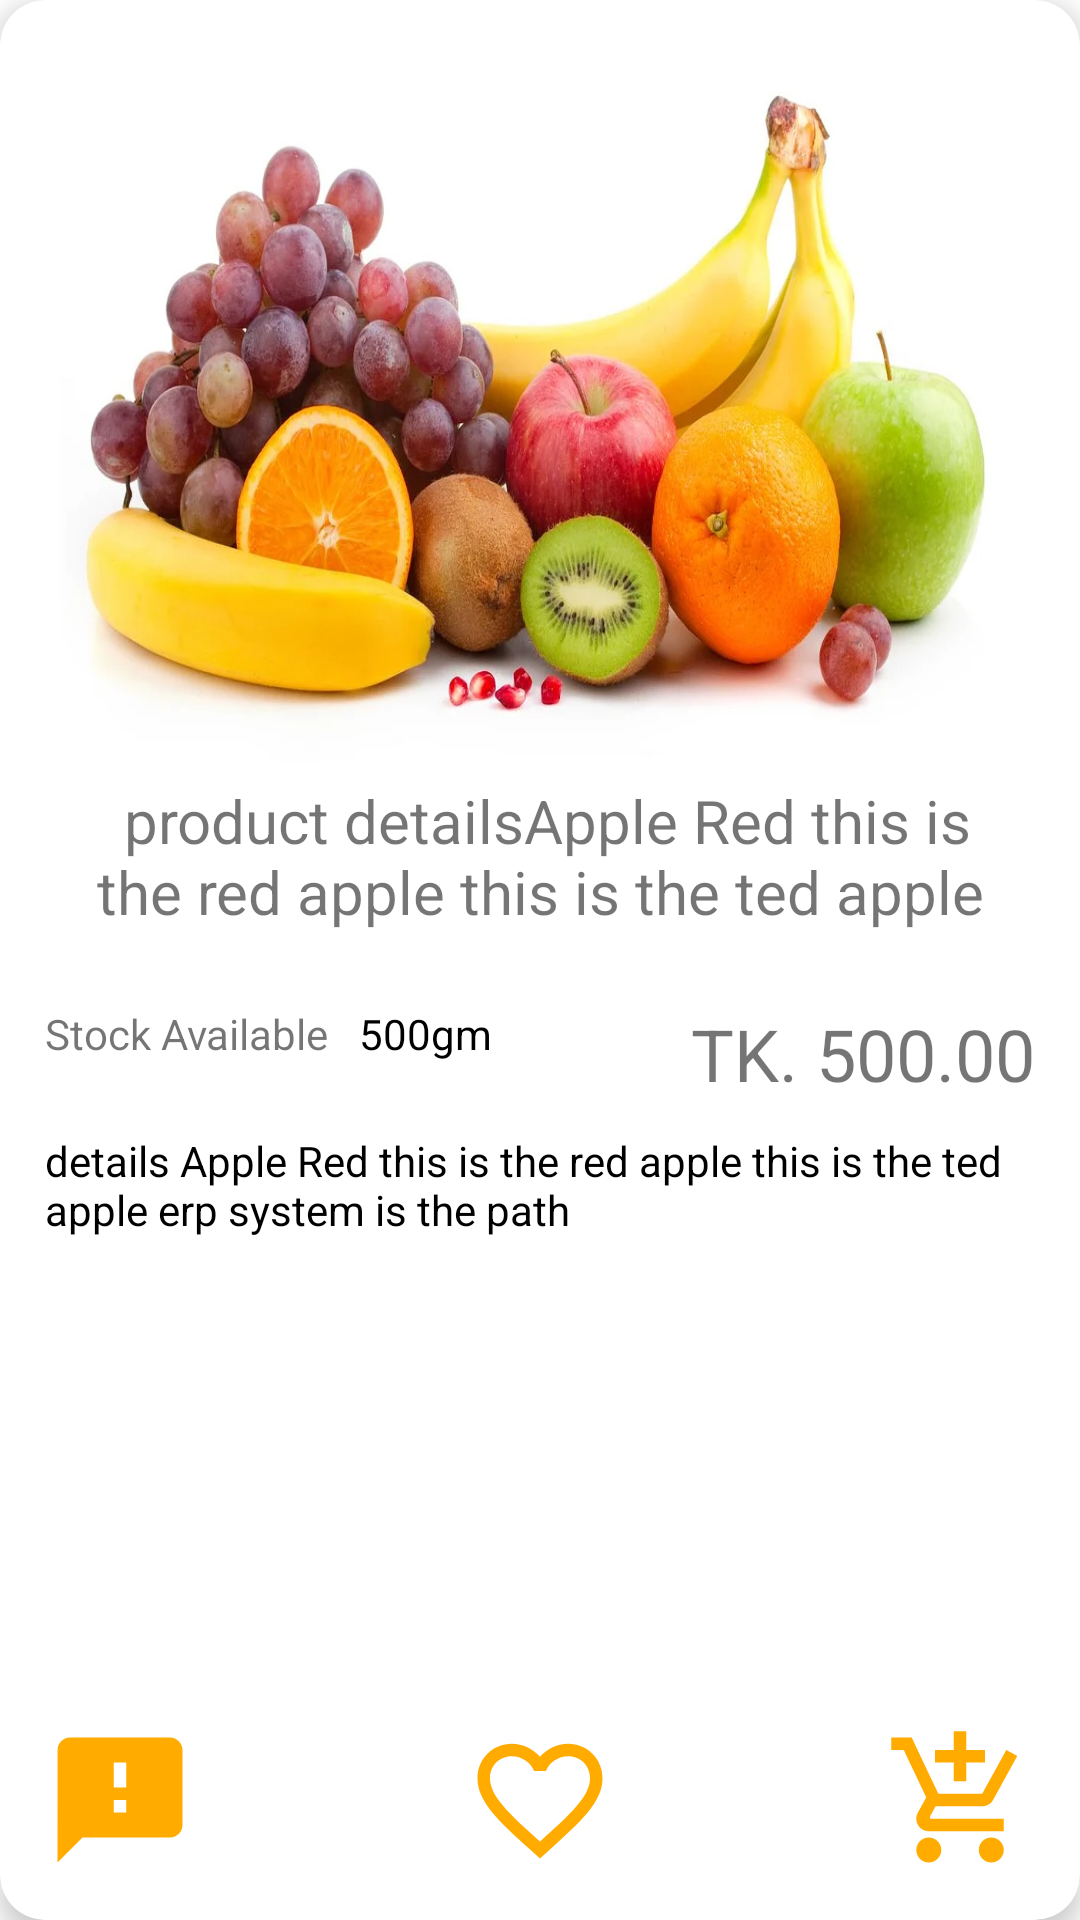

Icons on this 1080 x 1920 Android screen, each with the point to tap as (x=x, y=y):
add shopping cart: (x=954, y=1797)
favorite botton: (x=540, y=1801)
feedback: (x=120, y=1800)
